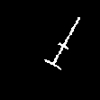double_crochet: (45, 17, 79, 69)
